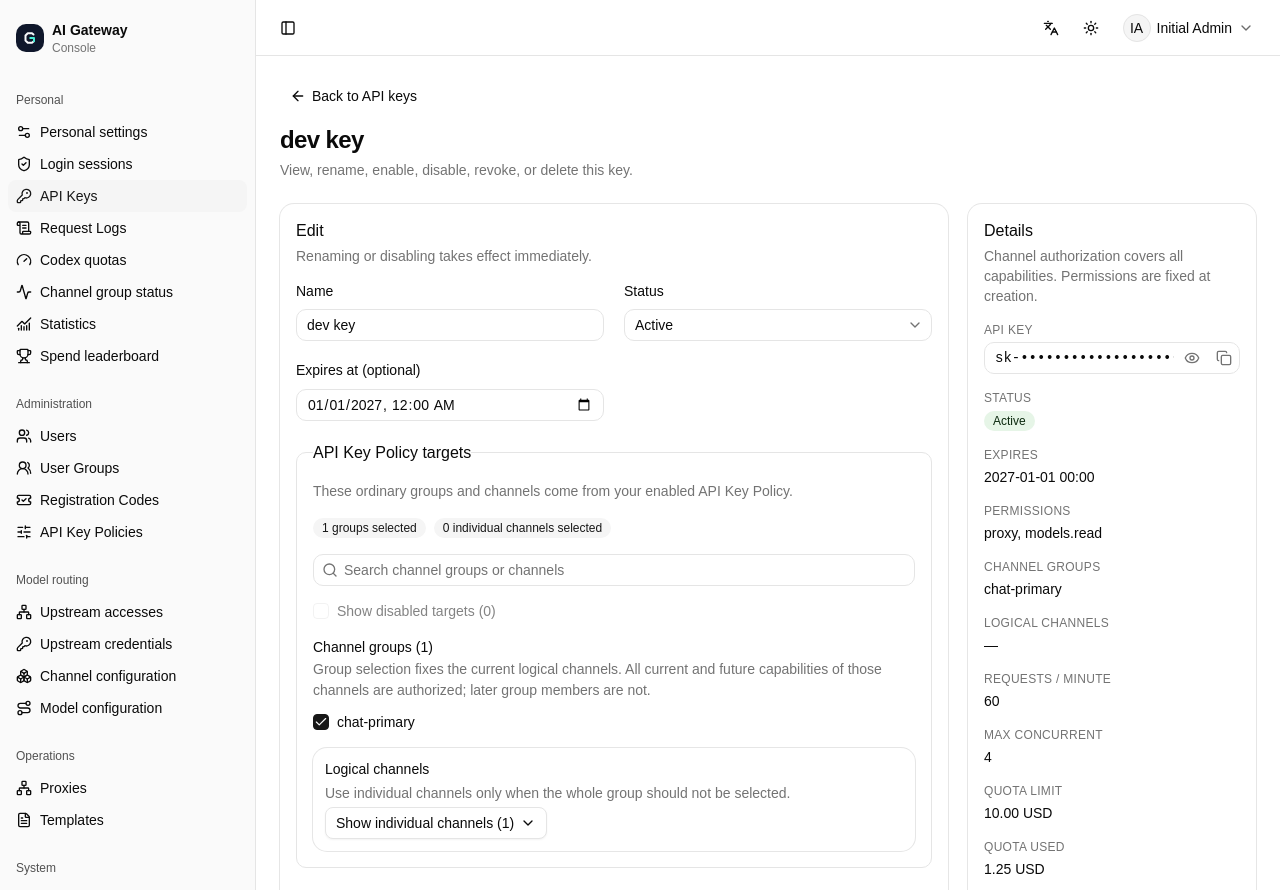
Test: ApiKeysPage › surfaces an optimistic-concurrency conflict as a toast
This screenshot has width=1280, height=890.
Replace the text in the field labelled "Name" with "renamed" at (450, 325), box [296, 309, 604, 341]
(page scrolled)
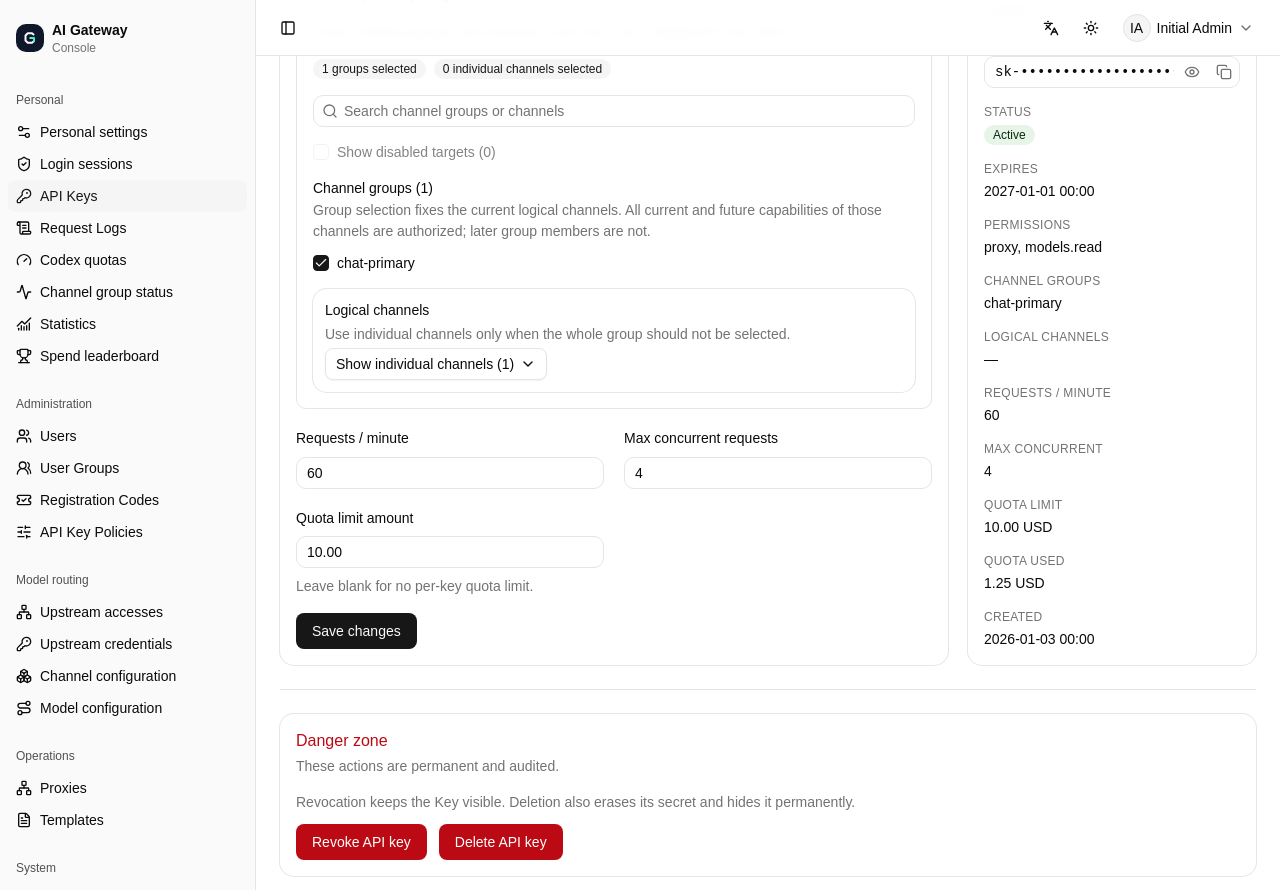
Click the button "Save changes" at (356, 631), box [296, 613, 417, 649]
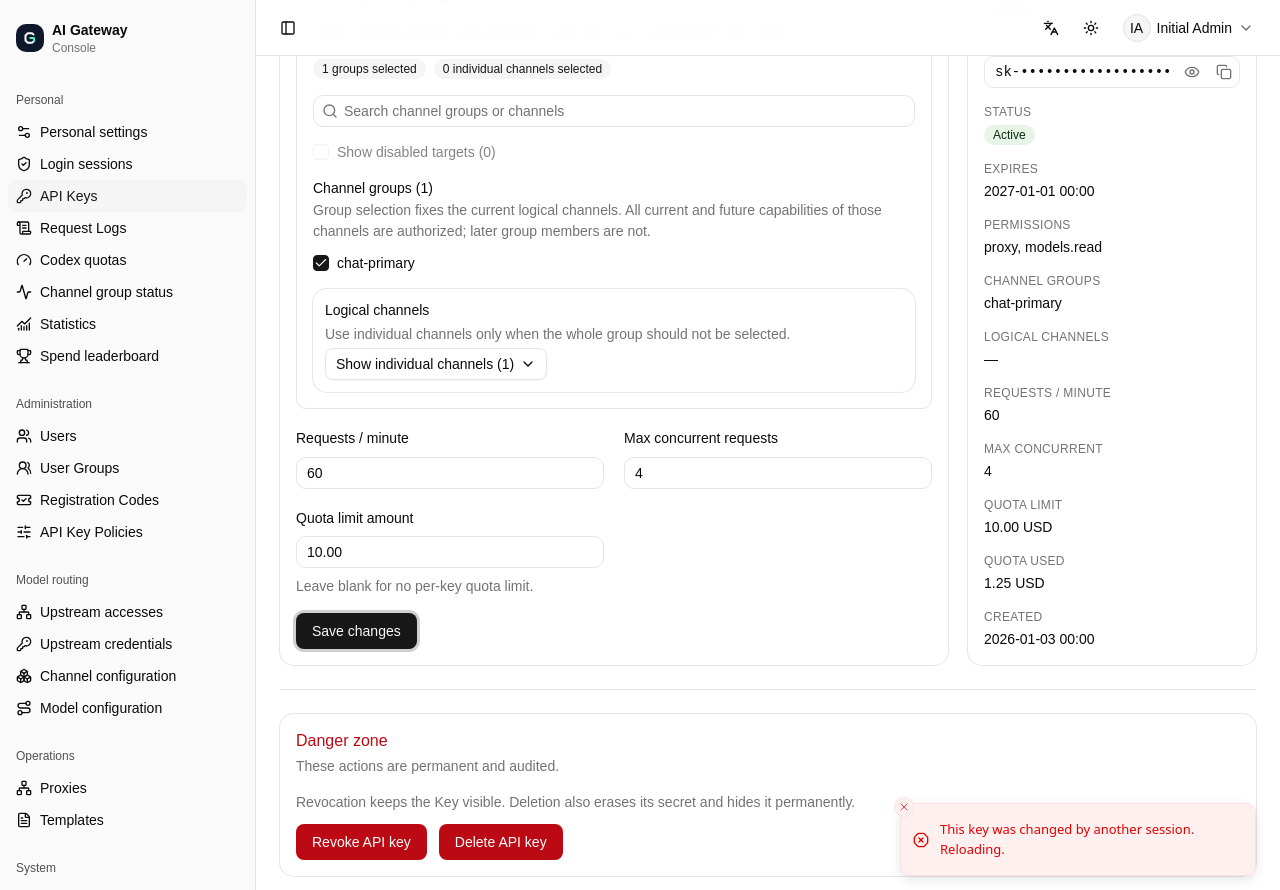
Expected: the text "This key was changed by another session. Reloading." is shown, [940, 820, 1239, 859]
